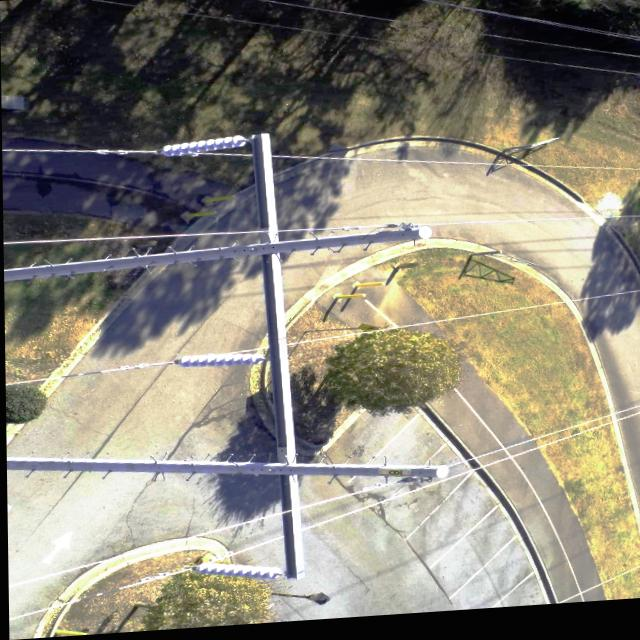poles: (3, 136, 446, 582)
wires: (301, 296, 640, 341), (3, 223, 608, 244), (466, 413, 640, 474), (5, 349, 266, 385), (2, 146, 163, 156), (523, 170, 640, 179), (190, 150, 252, 160), (513, 144, 561, 154), (273, 157, 333, 163), (285, 341, 325, 349), (346, 146, 372, 153)
